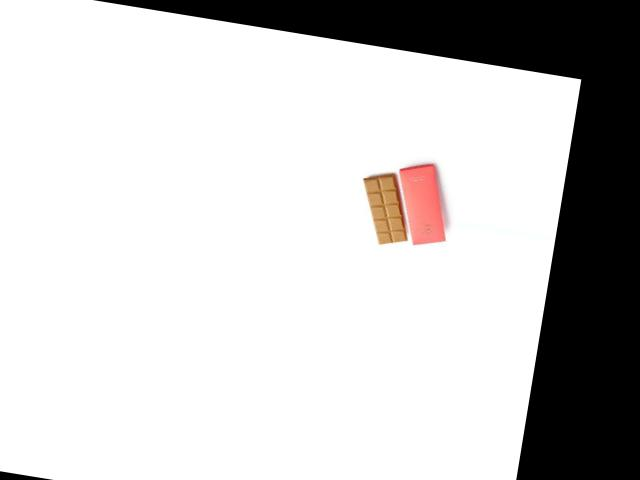chocolate: (353, 165, 421, 250)
